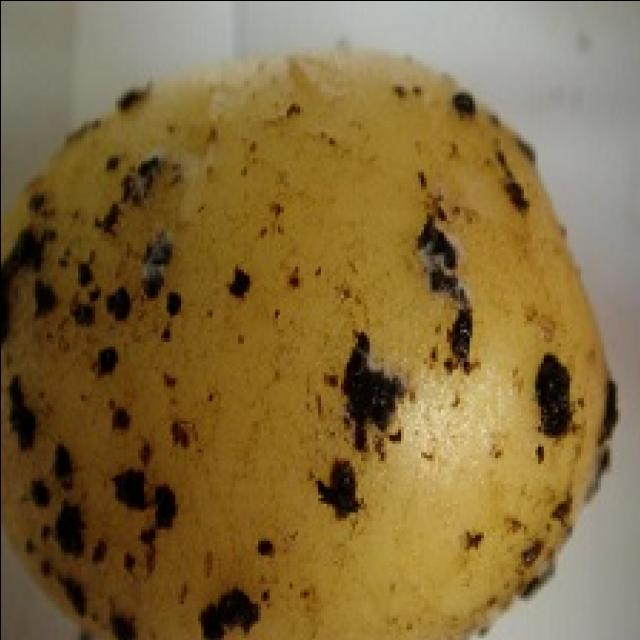black_scurf: (0, 39, 624, 640)
